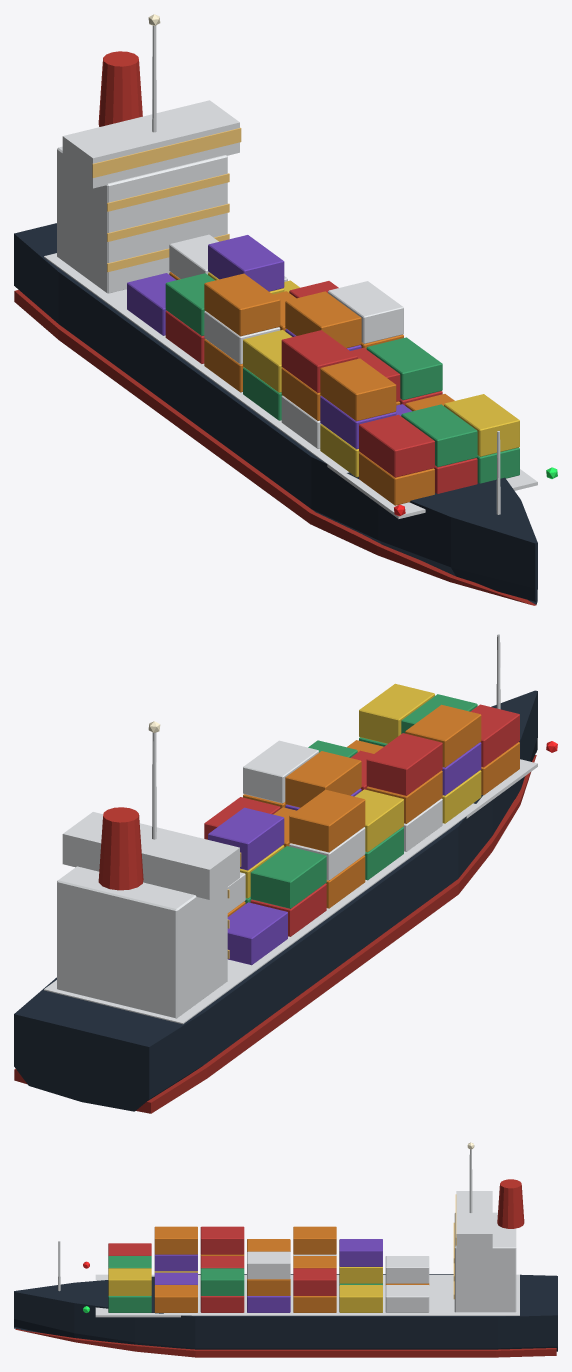
Rendered from ship-cargo.glb.
The picture shows the model from 3 angles, top to bottom: view 1: azimuth 30°, elevation 25°; view 2: azimuth 150°, elevation 25°; view 3: azimuth 270°, elevation 25°; orthographic projection. The views are drawn at different scales.
Visible parts, largest first — view 1: Hull, House, Bridge, Boot, MainDeck, Cntr.008, Cntr.028, Cntr.001, Cntr.037, Cntr.022, Funnel, Cntr.017 (+22 smaller); view 2: Hull, House, Bridge, Boot, MainDeck, Cntr.013, Cntr.028, Cntr.034, Funnel, Cntr.039, Cntr.022, Cntr.037 (+16 smaller); view 3: Hull, House, Boot, MainDeck, Bridge, Cntr.013, Cntr.008, Cntr.025, Cntr.028, Cntr.042, Cntr.017, Cntr.041 (+19 smaller).
Part boxes in pixels (<box>): Hull: <box>14,223,537,604</box>; House: <box>57,146,227,293</box>; Bridge: <box>62,100,239,188</box>; Boot: <box>14,290,536,605</box>; MainDeck: <box>44,253,537,518</box>; Cntr.008: <box>320,358,396,421</box>; Cntr.028: <box>204,273,280,336</box>; Cntr.001: <box>359,414,434,477</box>; Cntr.037: <box>208,235,284,291</box>; Cntr.022: <box>285,291,361,348</box>; Funnel: <box>98,51,142,126</box>; Cntr.017: <box>366,337,442,400</box>; Hull: <box>14,690,537,1111</box>; House: <box>57,866,227,1018</box>; Bridge: <box>62,812,239,899</box>; Boot: <box>14,755,536,1113</box>; MainDeck: <box>44,759,537,1024</box>; Cntr.013: <box>366,733,442,795</box>; Cntr.028: <box>289,789,365,852</box>; Cntr.034: <box>250,846,326,908</box>; Funnel: <box>98,807,143,890</box>; Cntr.039: <box>227,902,287,965</box>; Cntr.022: <box>285,751,361,807</box>; Cntr.037: <box>208,807,284,870</box>; Hull: <box>14,1274,557,1351</box>; House: <box>454,1212,516,1312</box>; Boot: <box>15,1329,556,1357</box>; MainDeck: <box>95,1274,519,1317</box>; Bridge: <box>456,1191,492,1251</box>; Cntr.013: <box>200,1226,244,1254</box>; Cntr.008: <box>154,1226,197,1254</box>; Cntr.025: <box>247,1251,290,1279</box>; Cntr.028: <box>293,1226,336,1254</box>; Cntr.042: <box>385,1285,429,1312</box>; Cntr.017: <box>200,1268,244,1295</box>; Cntr.041: <box>385,1256,429,1283</box>.
Bounding box in the file's own units: 6.19 × 11.92 × 30.
